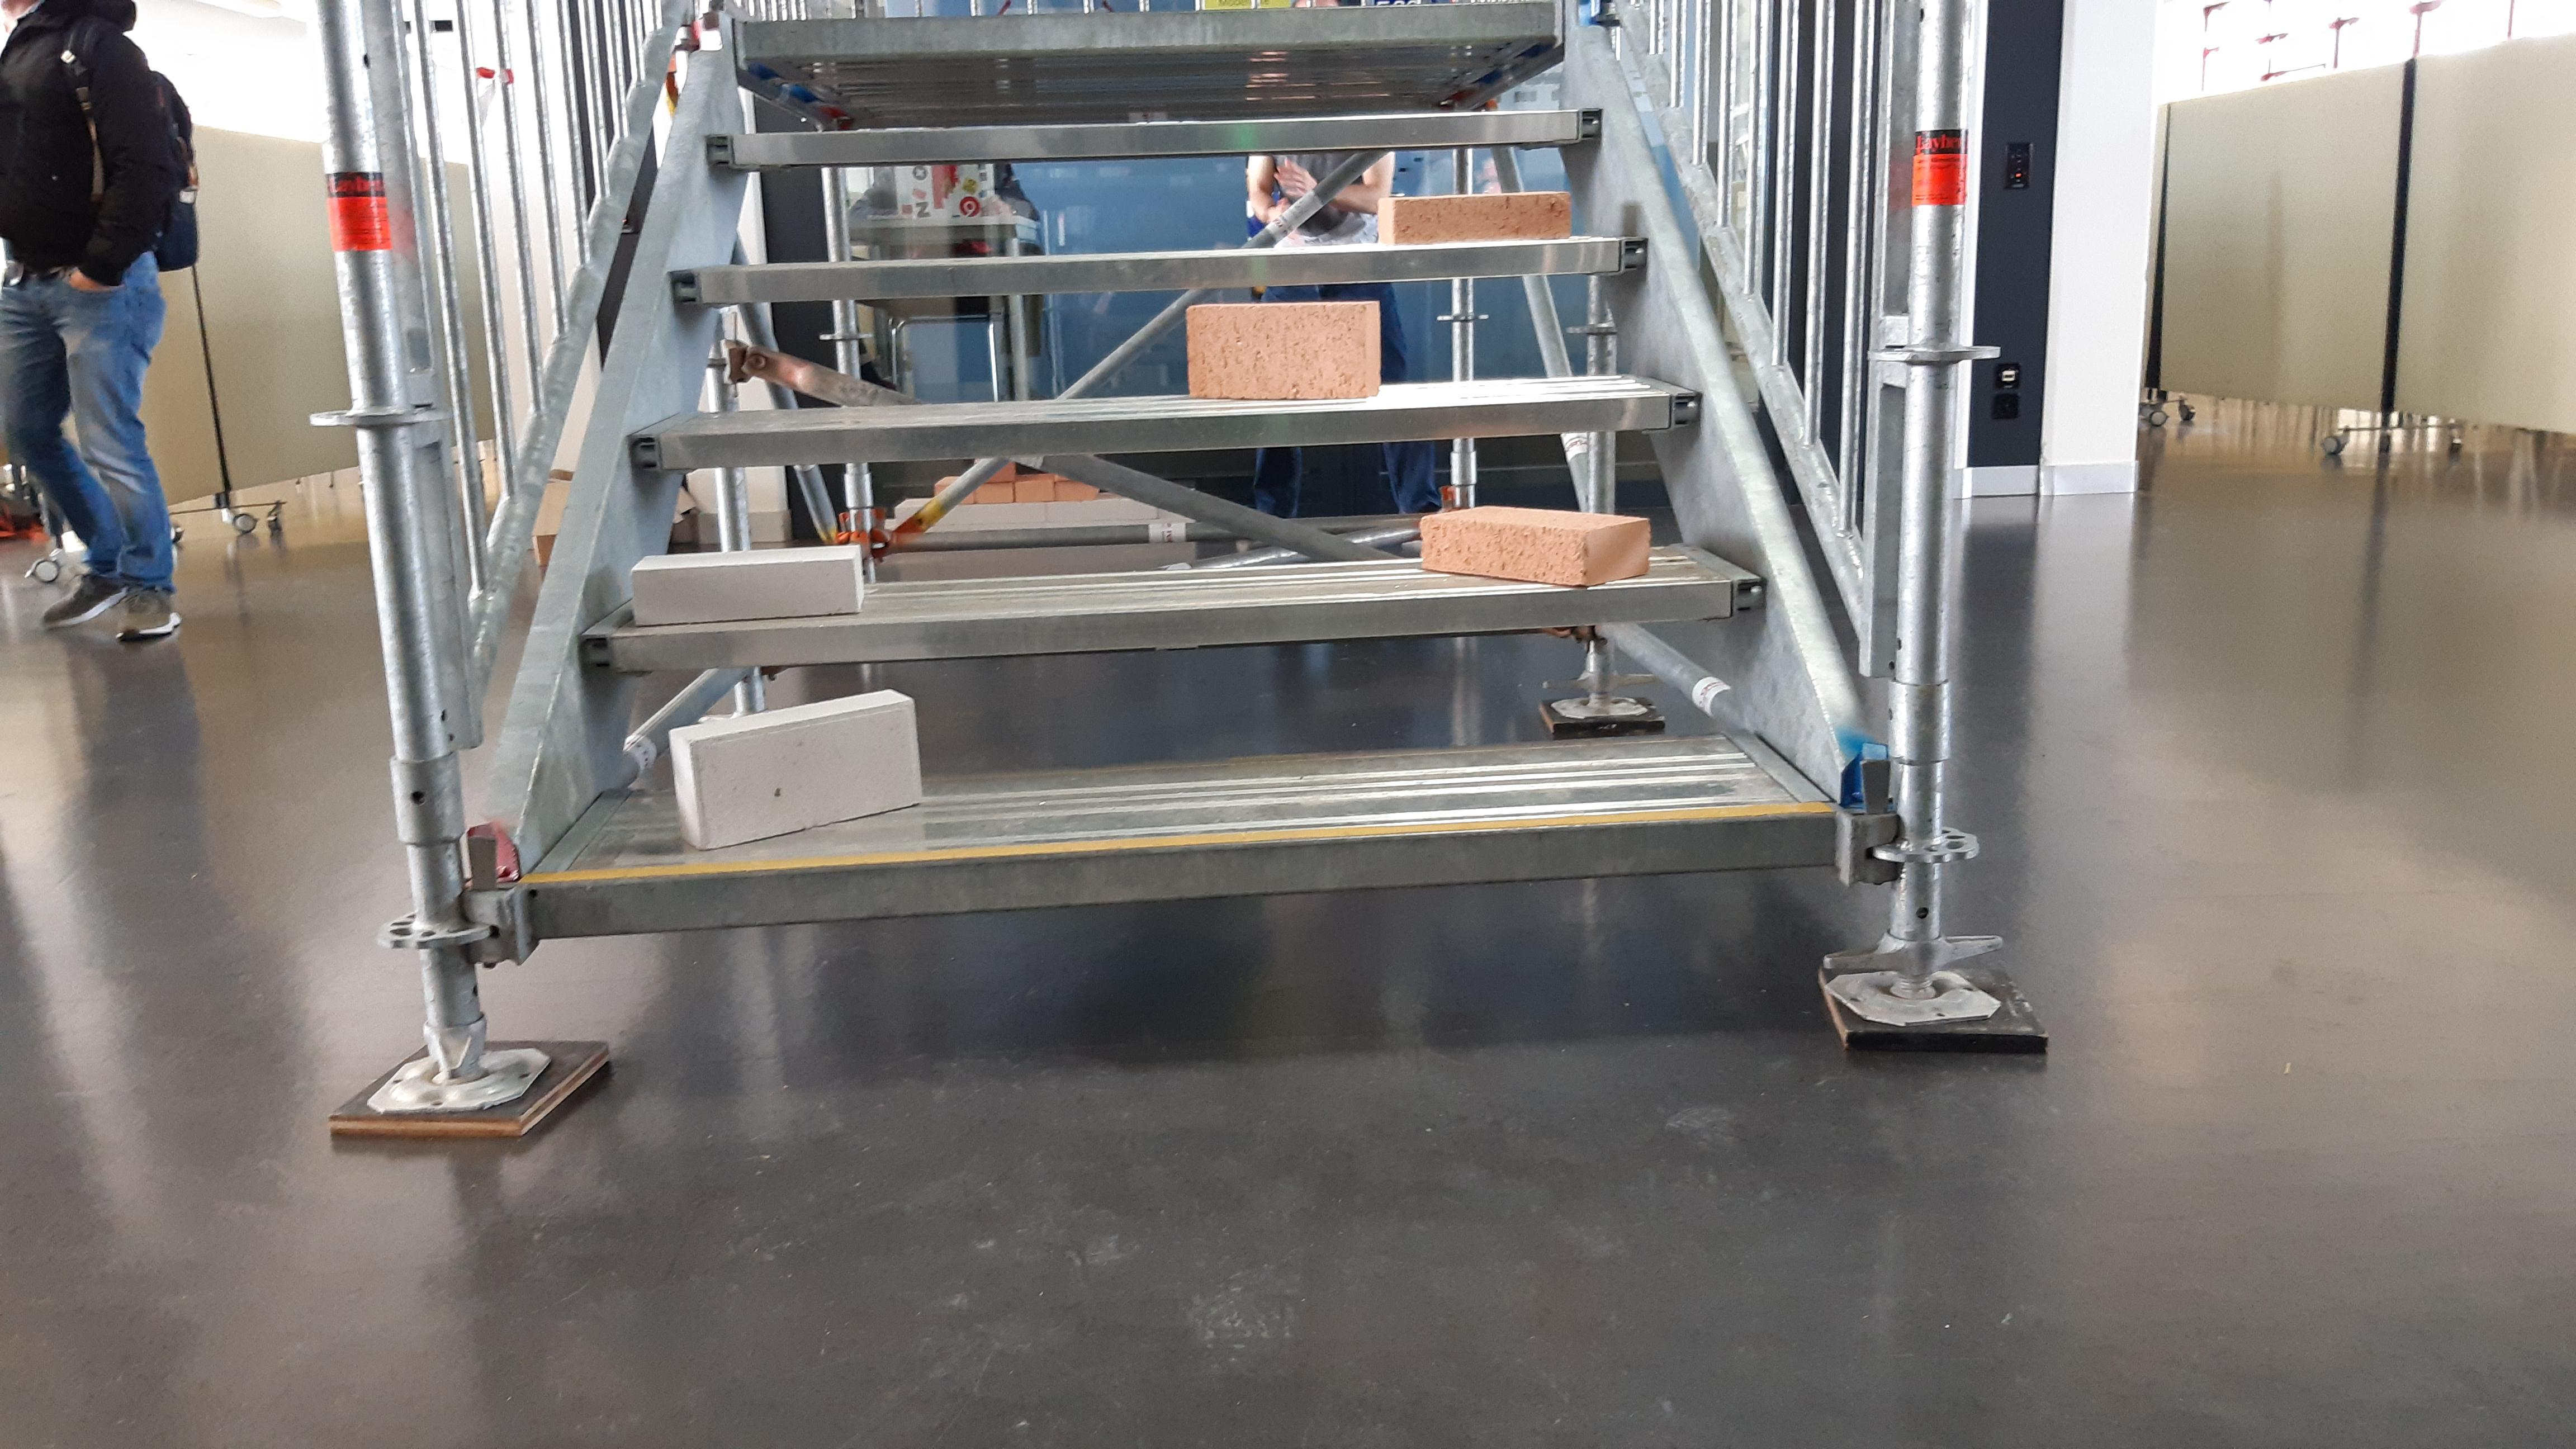brick: (669, 692, 920, 847), (1421, 502, 1649, 582), (1187, 303, 1376, 398), (632, 545, 863, 623), (1376, 193, 1571, 241)
edge: (525, 803, 1842, 941), (582, 575, 1767, 672), (628, 387, 1702, 471), (679, 237, 1649, 303), (709, 108, 1601, 166), (740, 2, 1564, 51)
stairs: (324, 9, 2049, 1131)
steps: (506, 4, 1840, 1007)
